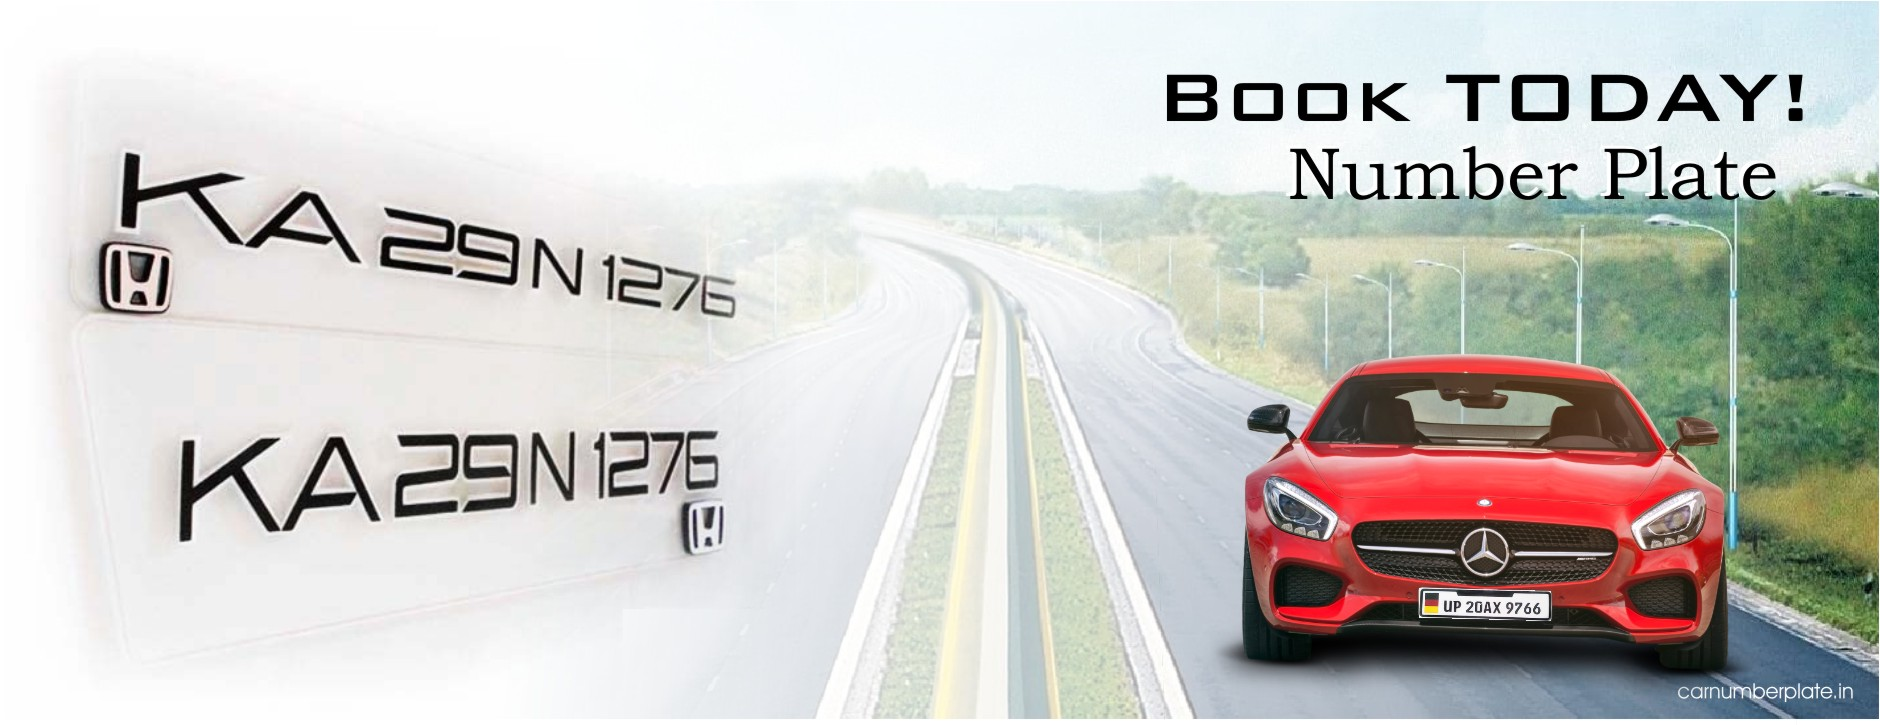number_plate: (1415, 582, 1562, 631)
